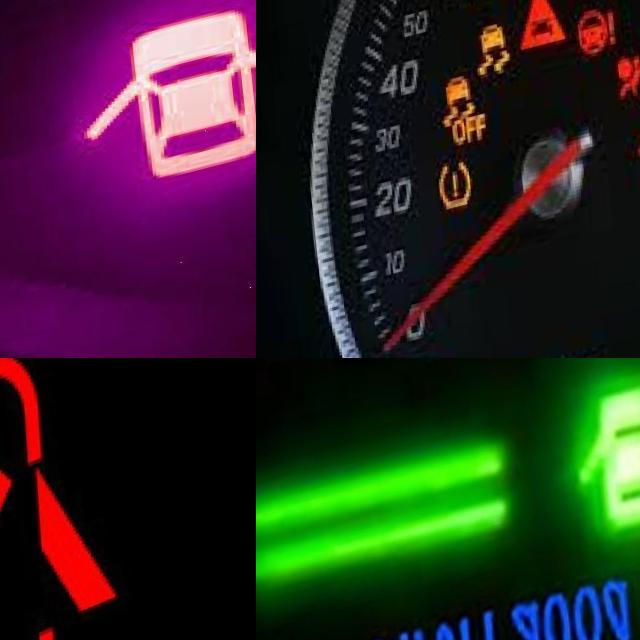Electronic Power Steering: (566, 17, 621, 85)
Seat Belt: (621, 128, 640, 191)
